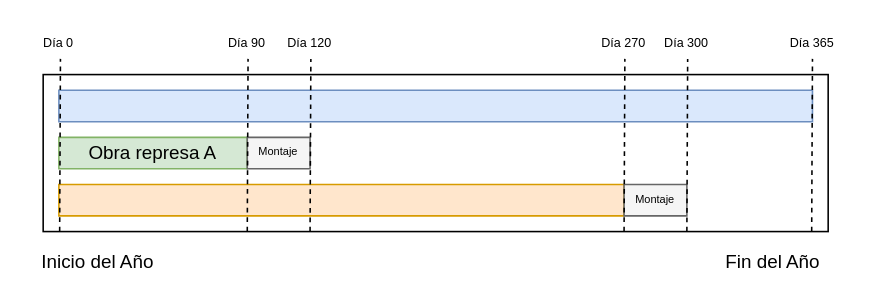
Image size: 870x305. Some labels were removed from this diagram. Here are the shapes that lost their labels. From the top down, the box of each, then its label:
(57, 89, 812, 122): Producción de aviones
(57, 183, 624, 216): Obra represa B
